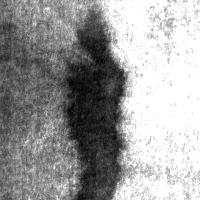patches: (60, 56, 125, 200), (0, 20, 61, 134), (77, 4, 114, 93), (50, 0, 112, 45)
